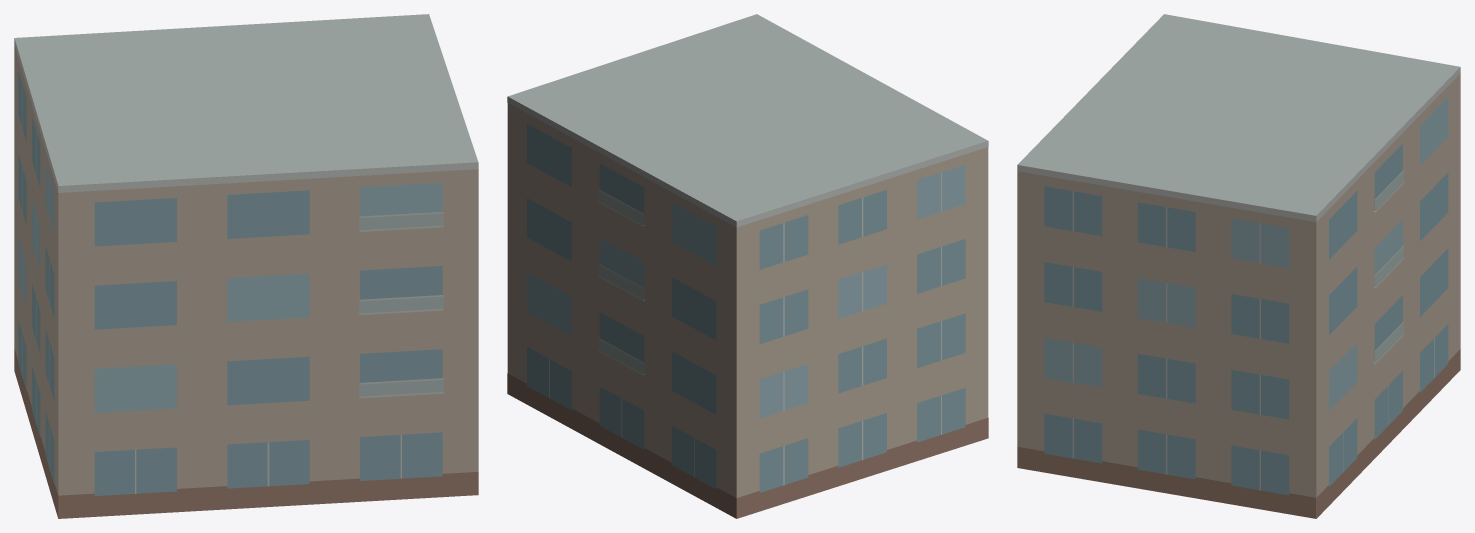
File: survey-upis-33017196.glb
3 renders of one model, left to right at view 1: azimuth 30°, elevation 25°; view 2: azimuth 150°, elevation 25°; view 3: azimuth 270°, elevation 25°, orthographic. The views are drawn at different scales.
Visible parts, largest first — view 1: survey-upis-33017196.tmp; view 2: survey-upis-33017196.tmp; view 3: survey-upis-33017196.tmp.
Part boxes in pixels (left/top/right/bottom): survey-upis-33017196.tmp: left=14, top=14, right=478, bottom=518; survey-upis-33017196.tmp: left=507, top=14, right=988, bottom=518; survey-upis-33017196.tmp: left=1017, top=14, right=1460, bottom=518.
Size of the model in its own units: 16.87 by 11.8 by 15.65.
